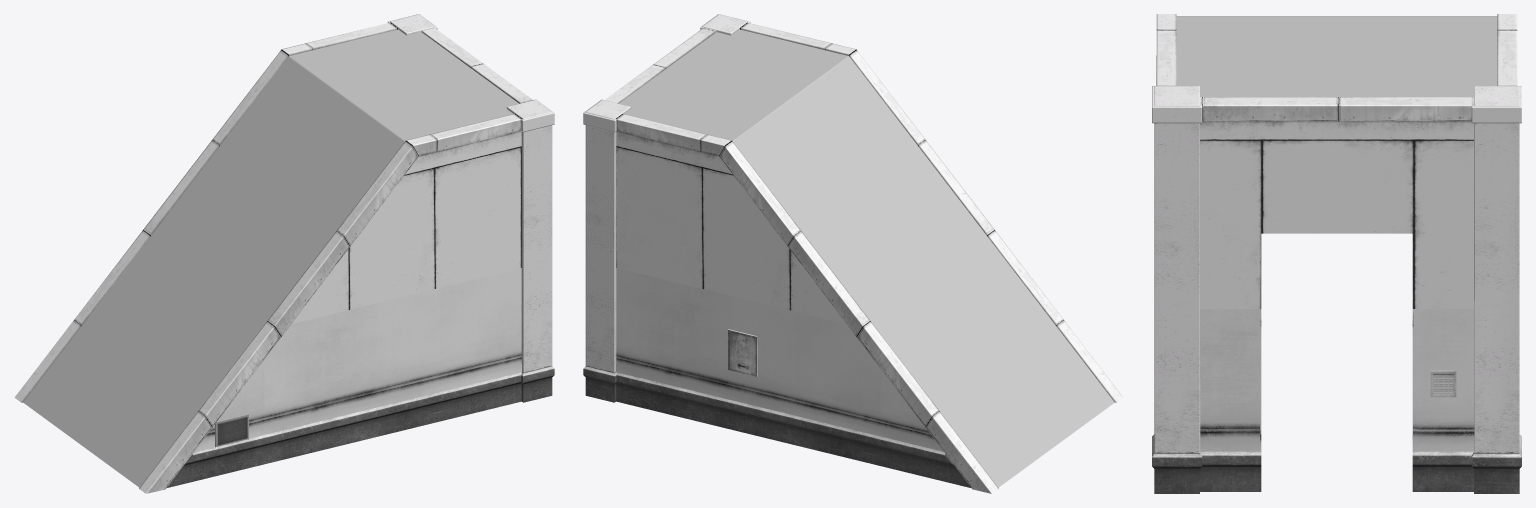
Rendered from S_RooftopStructure_07.dae.
The picture shows the model from 3 angles, left to right: view 1: azimuth 30°, elevation 25°; view 2: azimuth 150°, elevation 25°; view 3: azimuth 270°, elevation 25°; orthographic projection. The views are drawn at different scales.
Visible parts, largest first — view 1: S_RooftopStructure_07.003, S_RooftopStructure_07.004, S_RooftopStructure_07.006, S_RooftopStructure_07.005; view 2: S_RooftopStructure_07.003, S_RooftopStructure_07.004, S_RooftopStructure_07.006; view 3: S_RooftopStructure_07.004, S_RooftopStructure_07.003, S_RooftopStructure_07.006, S_RooftopStructure_07.005.
Boxes of the visible parts, left/top/right/bottom form: S_RooftopStructure_07.003: left=23, top=29, right=518, bottom=487; S_RooftopStructure_07.004: left=14, top=14, right=554, bottom=493; S_RooftopStructure_07.006: left=194, top=268, right=521, bottom=451; S_RooftopStructure_07.005: left=215, top=414, right=248, bottom=447; S_RooftopStructure_07.003: left=619, top=29, right=1114, bottom=487; S_RooftopStructure_07.004: left=583, top=14, right=1123, bottom=493; S_RooftopStructure_07.006: left=616, top=268, right=943, bottom=451; S_RooftopStructure_07.004: left=1152, top=14, right=1521, bottom=493; S_RooftopStructure_07.003: left=1176, top=16, right=1497, bottom=96; S_RooftopStructure_07.006: left=1200, top=309, right=1474, bottom=451; S_RooftopStructure_07.005: left=1430, top=370, right=1456, bottom=397.
Bounding box in the file's own units: 577 × 332 × 385.
